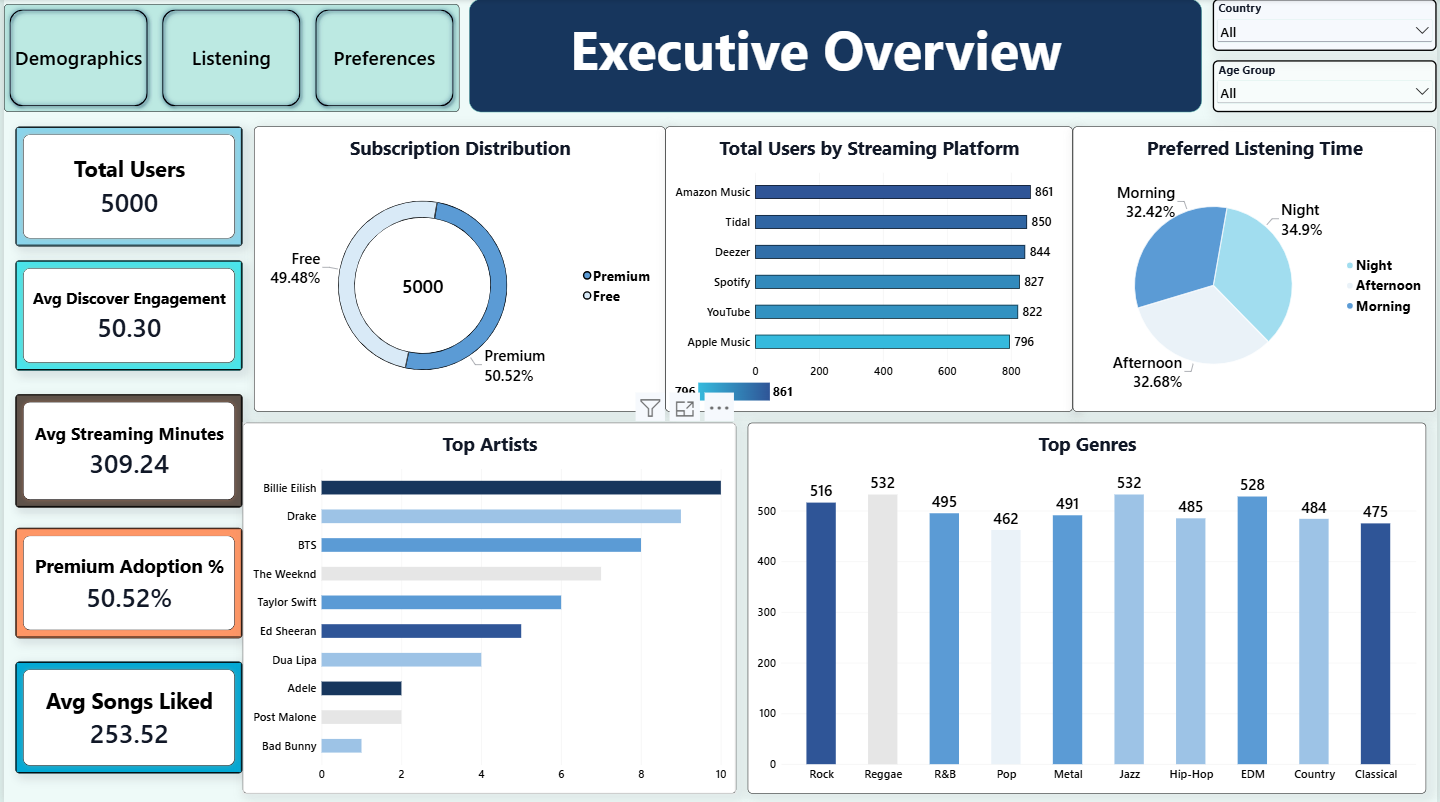

This screenshot's page, from the dashboard's own definition file:
{"tool":"powerbi","page":{"name":" Executive","canvas":[2560,1440],"ordinal":0},"visuals":[{"type":"textbox","box":[830.2,0,1309.3,202.3],"z":0},{"type":"cardVisual","fields":{"Data":["Table.Total Users"]},"box":[19.2,227.8,406.2,214.1],"z":1000},{"type":"cardVisual","fields":{"Data":["Table.Avg Weekly Engagement"]},"box":[19.2,466.6,406.2,197.6],"z":2000},{"type":"cardVisual","fields":{"Data":["Table.AvgMinutesByGenre"]},"box":[19.2,705.3,406.2,203.1],"z":3000},{"type":"cardVisual","fields":{"Data":["Table.Premium Adoption %"]},"box":[19.2,944.1,406.2,197.6],"z":4000},{"type":"cardVisual","fields":{"Data":["Table.Avg Songs Liked"]},"box":[19.2,1182.9,406.2,200.3],"z":5000},{"type":"donutChart","title":"  Subscription Distribution","fields":{"Category":["cleaned_music_data (1).Subscription Type"],"Y":["Table.Total Users"]},"box":[446.5,227.9,734.9,509.3],"z":6000},{"type":"barChart","title":"Total Users by Streaming Platform","fields":{"Category":["cleaned_music_data (1).Streaming Platform"],"Y":["Table.Total Users"]},"box":[1181.4,227.9,727.9,509.3],"z":7000},{"type":"pieChart","title":"Preferred Listening Time","fields":{"Category":["cleaned_music_data (1).Listening Time (Morning/Afternoon/Night)"],"Y":["Table.Total Users"]},"box":[1909.3,227.9,648.8,509.3],"z":8000},{"type":"barChart","title":"Top Artists  ","fields":{"Category":["cleaned_music_data (1).Most Played Artist"],"Y":["Table.Top_Artists"]},"box":[425.6,758.1,881.4,662.8],"z":9000},{"type":"clusteredColumnChart","title":"  Top Genres","fields":{"Category":["cleaned_music_data (1).Top Genre"],"Y":["Table.Total Users"]},"box":[1327.9,758.1,1211.6,662.8],"z":10000},{"type":"slicer","fields":{"Values":["cleaned_music_data (1).Age Group"]},"box":[2160.5,109.3,400,93],"z":11000},{"type":"slicer","fields":{"Values":["cleaned_music_data (1).Country"]},"box":[2160.5,0,400,93],"z":12000},{"type":"pageNavigator","box":[0,9.3,814,193],"z":13000}]}

Visuals, with their boxes in screenshot pixels (x1, y1, x2, y2), scaled from the page's 2560x1440 canvas onto the 1440x802 screenshot:
textbox: [467,0,1203,113]
cardVisual - Table.Total Users: [11,127,239,246]
cardVisual - Table.Avg Weekly Engagement: [11,260,239,370]
cardVisual - Table.AvgMinutesByGenre: [11,393,239,506]
cardVisual - Table.Premium Adoption %: [11,526,239,636]
cardVisual - Table.Avg Songs Liked: [11,659,239,770]
"  Subscription Distribution" donutChart: [251,127,665,411]
"Total Users by Streaming Platform" barChart: [665,127,1074,411]
"Preferred Listening Time" pieChart: [1074,127,1439,411]
"Top Artists  " barChart: [239,422,735,791]
"  Top Genres" clusteredColumnChart: [747,422,1428,791]
slicer - cleaned_music_data (1).Age Group: [1215,61,1439,113]
slicer - cleaned_music_data (1).Country: [1215,0,1439,52]
pageNavigator: [0,5,458,113]
